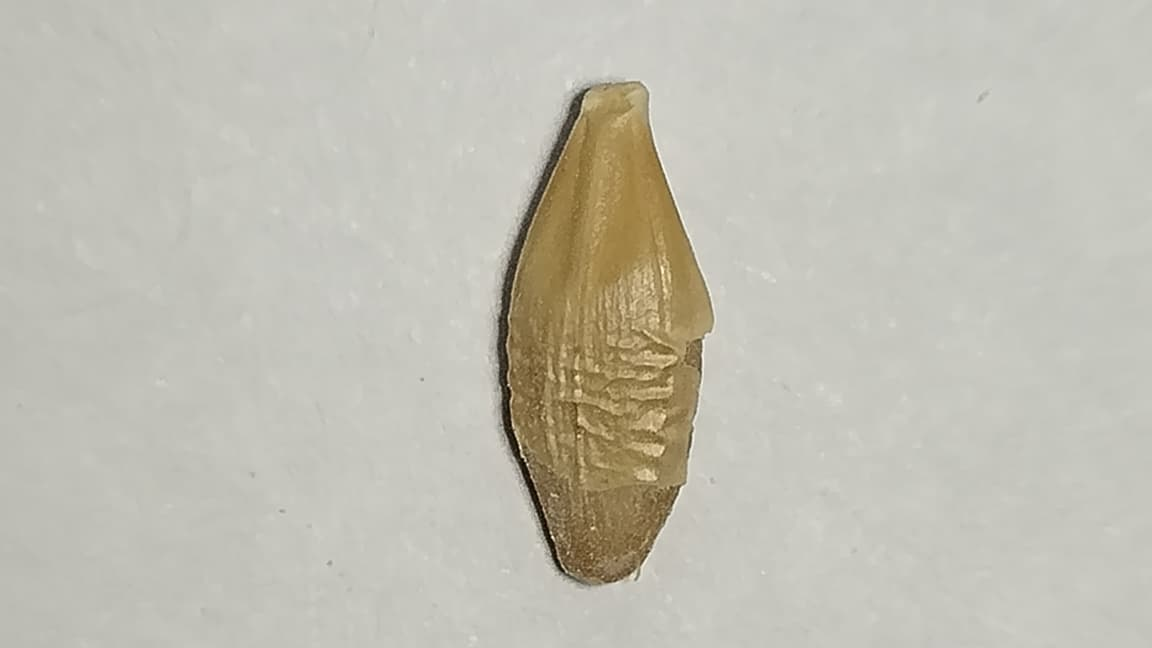healthy-70-60: (504, 84, 712, 583)
